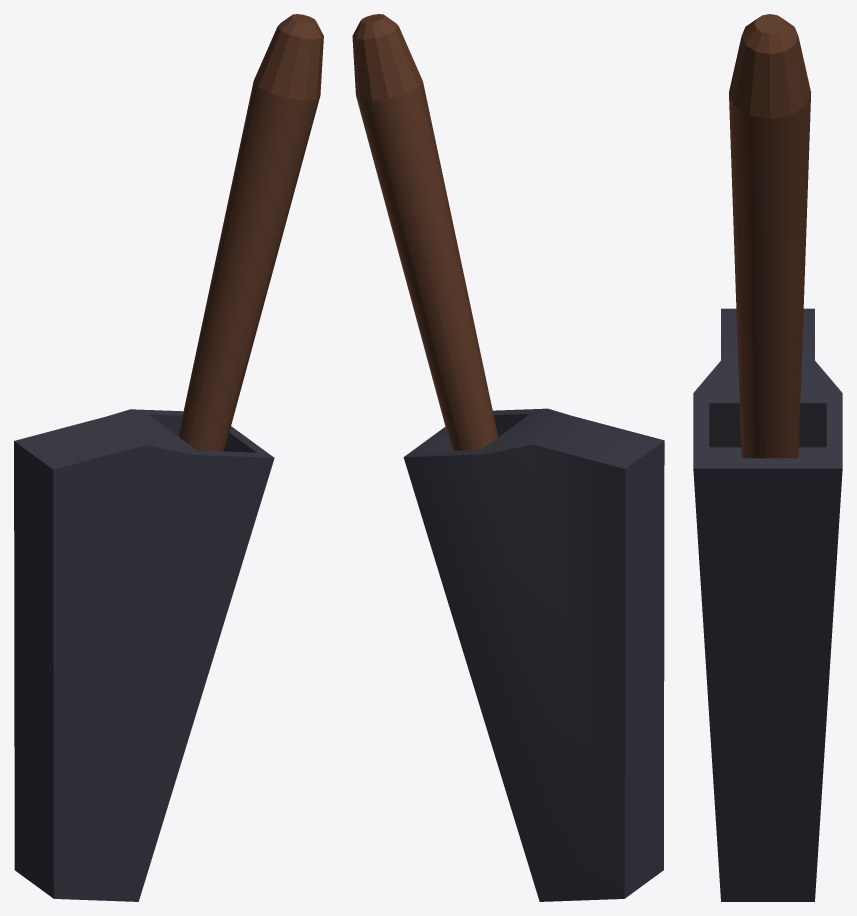
The model's file is SM_torch_01.fbx.
3 views of the same model, side by side, from view 1: azimuth 30°, elevation 25°; view 2: azimuth 150°, elevation 25°; view 3: azimuth 270°, elevation 25° (orthographic). The views are drawn at different scales.
Visible parts, largest first — view 1: torch_01; view 2: torch_01; view 3: torch_01.
Part boxes in pixels (left/top/right/bottom): torch_01: left=14, top=14, right=323, bottom=901; torch_01: left=352, top=14, right=664, bottom=901; torch_01: left=693, top=14, right=842, bottom=901.
Size of the model in its own units: 41.59 by 114 by 15.58.
